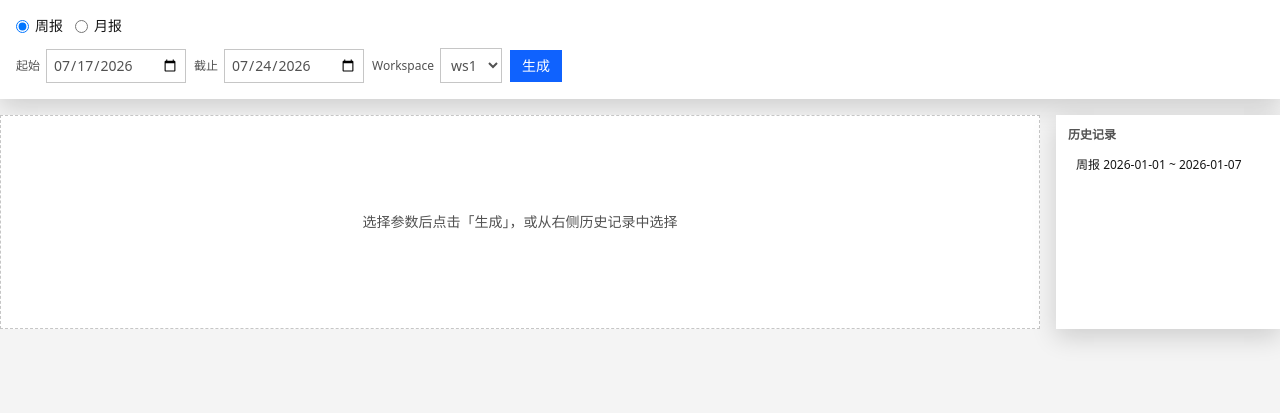
Test: ReportView › loads the report history list and reloads a past report when clicked
Expected: the button with test id "report-generate" is shown, [510, 50, 562, 82]
Click the button with test id "report-history-item". click: [1168, 165]
box: [1068, 151, 1268, 179]
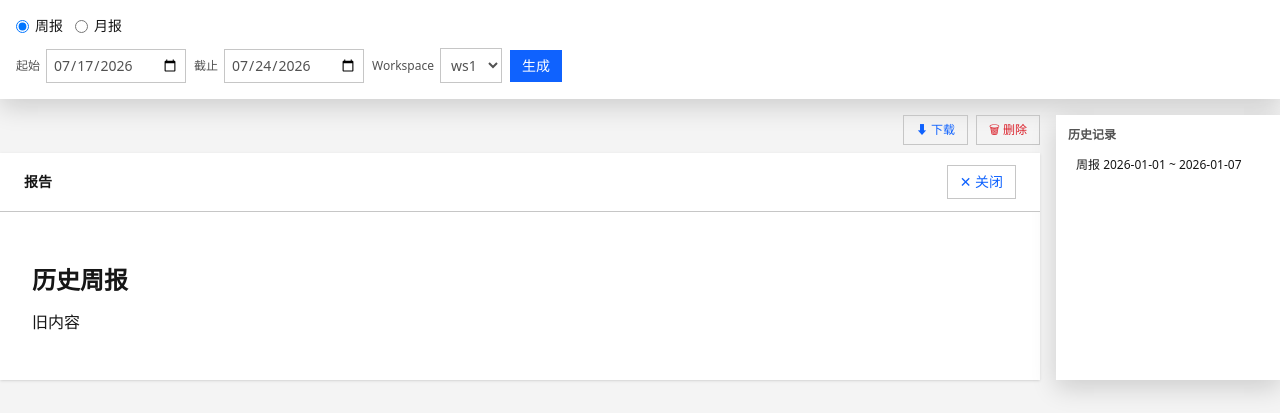
Result: the heading "历史周报" is shown at [32, 263, 128, 296]
